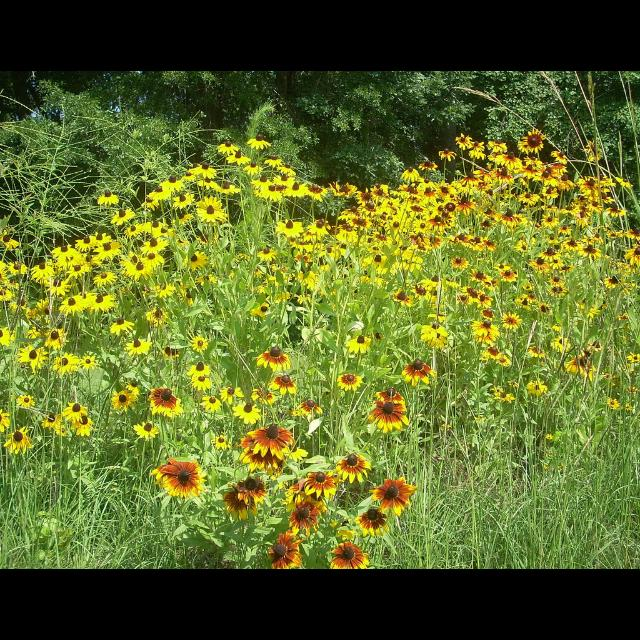Flower: (1, 134, 640, 568), (150, 454, 208, 508)
